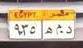3: (21, 23, 28, 37)
5: (29, 26, 36, 36)
9: (13, 23, 21, 36)
daal: (65, 25, 73, 35)
haa: (44, 26, 53, 35)
meem: (55, 23, 61, 36)
